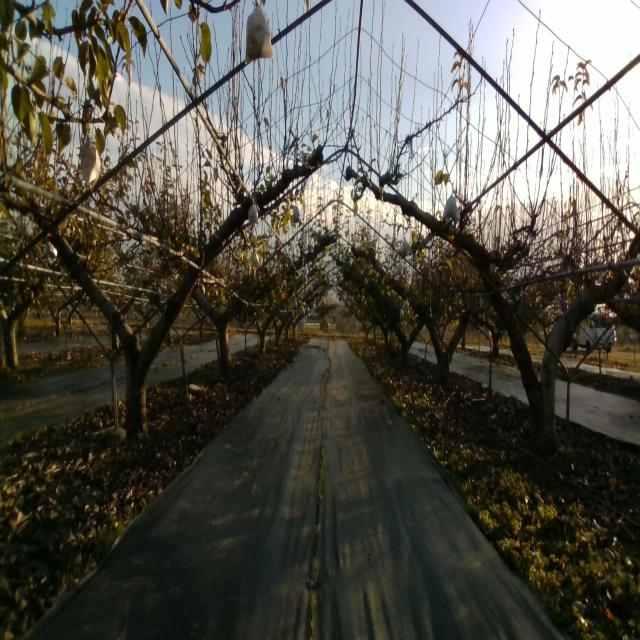pearbags: (244, 0, 274, 63), (79, 144, 102, 192), (442, 195, 461, 221), (248, 198, 260, 225)
